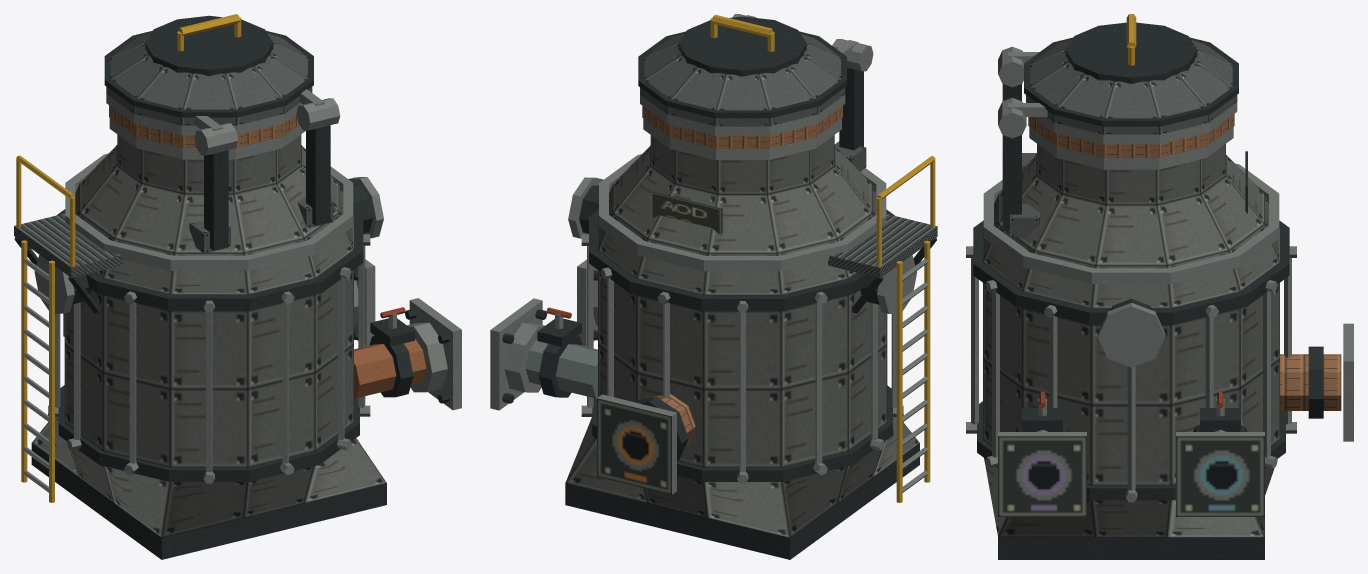
The model's file is large_aod.obj.
3 views of the same model, side by side, from view 1: azimuth 30°, elevation 25°; view 2: azimuth 150°, elevation 25°; view 3: azimuth 270°, elevation 25° (orthographic). The views are drawn at different scales.
Parts seen in each view (by area): view 1: vessel, bands, lower_shell, lid, port_argon, hinge_mount, service_step, ladder, neck, lifting_lugs, port_oxygen; view 2: vessel, bands, lid, lower_shell, port_oxygen, port_casting, service_step, neck, ladder, hinge_mount, lifting_lugs, nameplate (+1 smaller); view 3: vessel, bands, lid, lower_shell, port_oxygen, port_argon, neck, port_casting, hinge_mount, lifting_lugs.
Boxes of the visible parts, box(x1,y1,x2,y2) form: vessel: box(64, 134, 353, 467); bands: box(48, 153, 370, 483); lower_shell: box(31, 416, 386, 559); lid: box(104, 14, 324, 134); port_argon: box(354, 298, 461, 410); hinge_mount: box(189, 98, 340, 253); service_step: box(14, 155, 123, 313); ladder: box(21, 240, 54, 502); neck: box(109, 105, 305, 159); lifting_lugs: box(34, 177, 383, 313); port_oxygen: box(354, 259, 375, 346); vessel: box(598, 135, 887, 467); bands: box(581, 154, 903, 483); lid: box(638, 14, 858, 135); lower_shell: box(565, 417, 919, 559); port_oxygen: box(490, 298, 597, 410); port_casting: box(597, 393, 695, 494); service_step: box(828, 156, 937, 313); neck: box(642, 106, 842, 159); ladder: box(896, 240, 930, 502); hinge_mount: box(732, 14, 873, 171); lifting_lugs: box(568, 177, 917, 313); nameplate: box(650, 191, 722, 235); vessel: box(983, 144, 1279, 485); bands: box(966, 163, 1296, 502); lid: box(1008, 14, 1238, 144); lower_shell: box(984, 458, 1277, 559); port_oxygen: box(1176, 391, 1264, 516); port_argon: box(998, 391, 1086, 516); neck: box(1028, 114, 1234, 169); port_casting: box(1280, 323, 1353, 441); hinge_mount: box(998, 46, 1039, 237); lifting_lugs: box(1097, 298, 1165, 367).
Size of the model in its own units: 4.82 by 5.9 by 4.36.
Materials: 1 (1 with a texture image).
